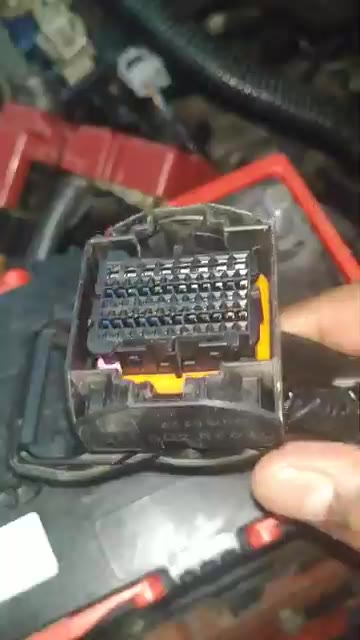connector: (65, 205, 287, 450)
